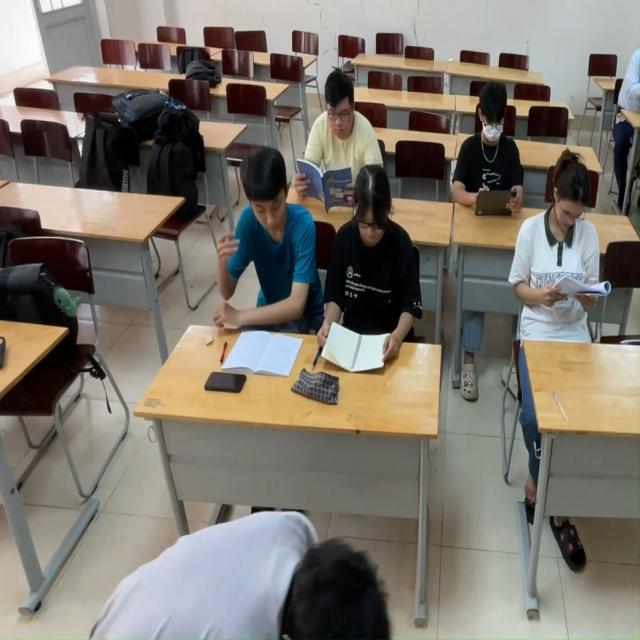read: (205, 143, 319, 390), (514, 158, 618, 417), (320, 167, 434, 402), (298, 57, 369, 229), (447, 87, 528, 228)
